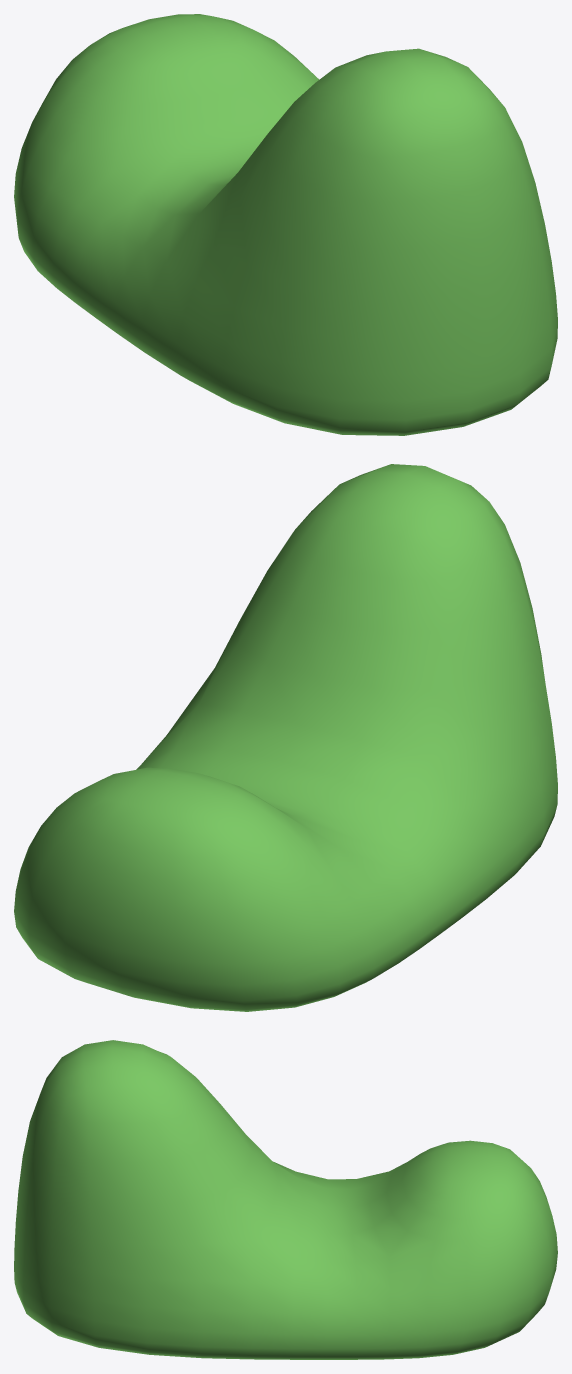
File: Hedge3_low.fbx
3 views of the same model, one above another, from view 1: azimuth 30°, elevation 25°; view 2: azimuth 150°, elevation 25°; view 3: azimuth 270°, elevation 25° (orthographic). The views are drawn at different scales.
Visible parts, largest first — view 1: Hedge.003_low; view 2: Hedge.003_low; view 3: Hedge.003_low.
Boxes of the visible parts, x1=… form: Hedge.003_low: x1=14, y1=14, x2=557, y2=435; Hedge.003_low: x1=14, y1=464, x2=557, y2=1011; Hedge.003_low: x1=14, y1=1040, x2=557, y2=1359.
Bounding box in the file's own units: 58.47 × 53.18 × 102.
